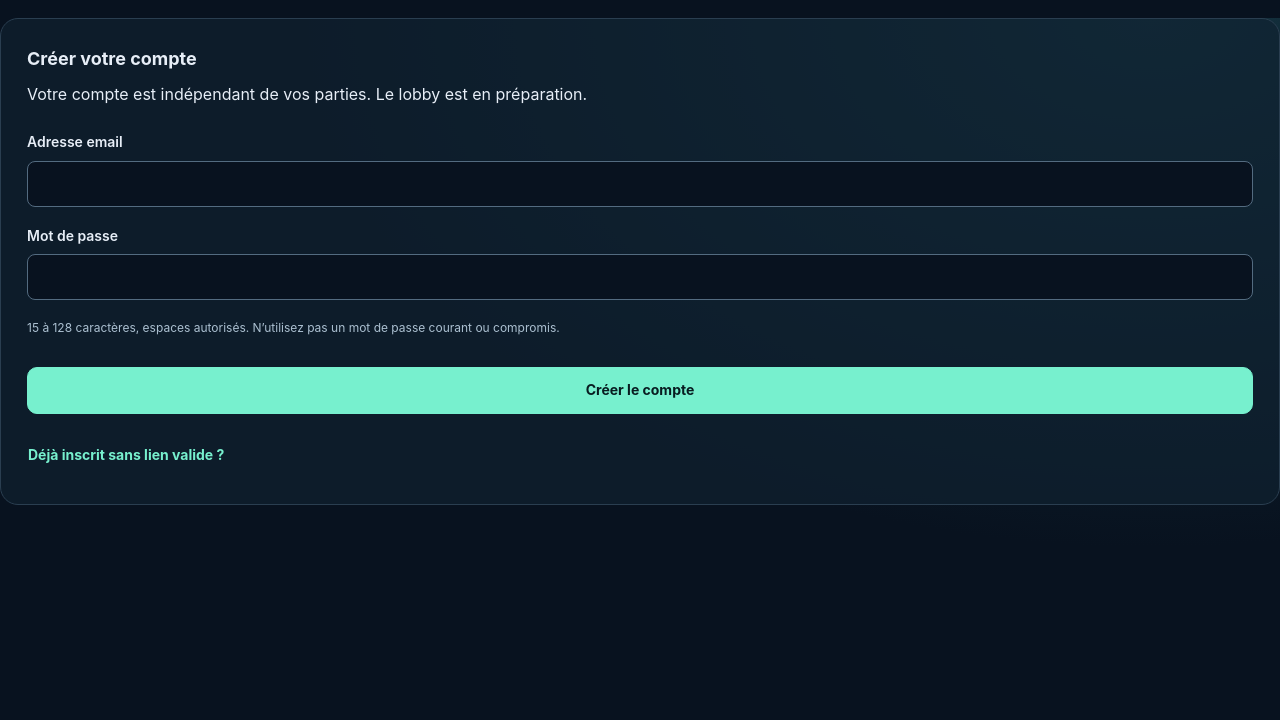
Test: rate errors are shown without reflecting a backend secret
Type "player@example.org" into the field labelled "Adresse email" at (640, 184), box [27,161,1253,207]
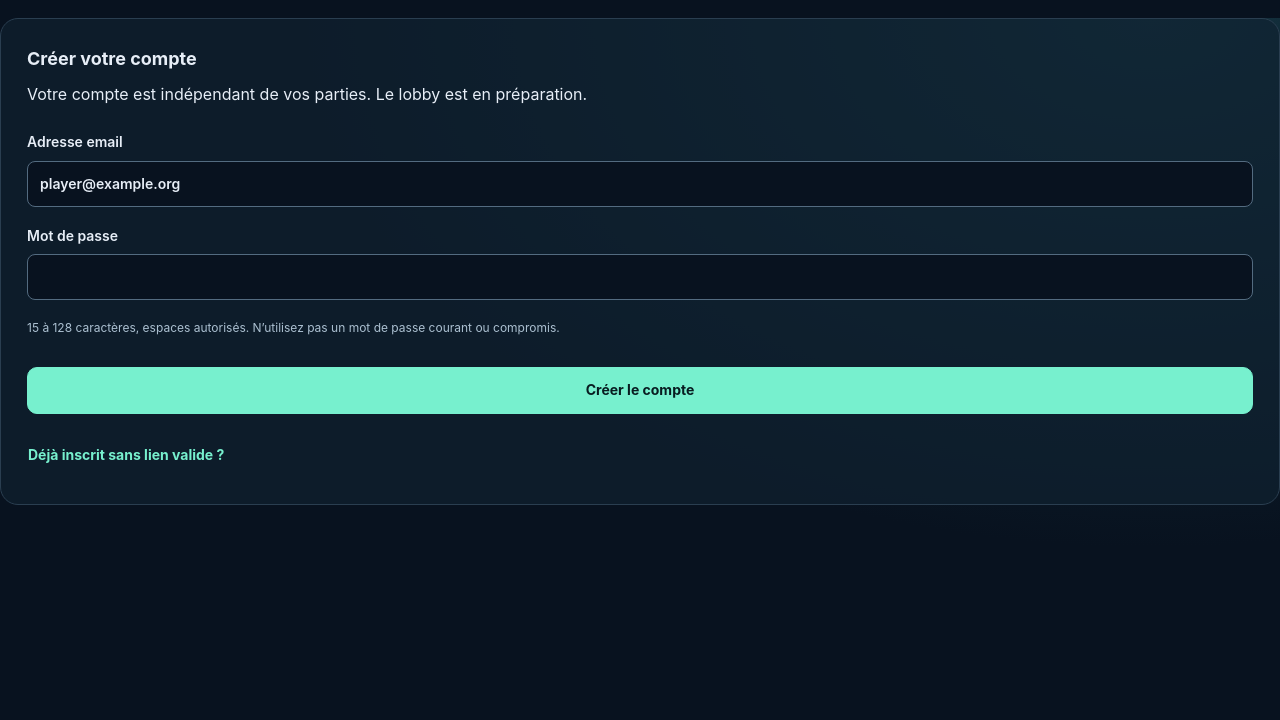
Type "C02 strong test phrase 2026 !" into the password field labelled "Mot de passe" at (640, 277), box [27,254,1253,300]
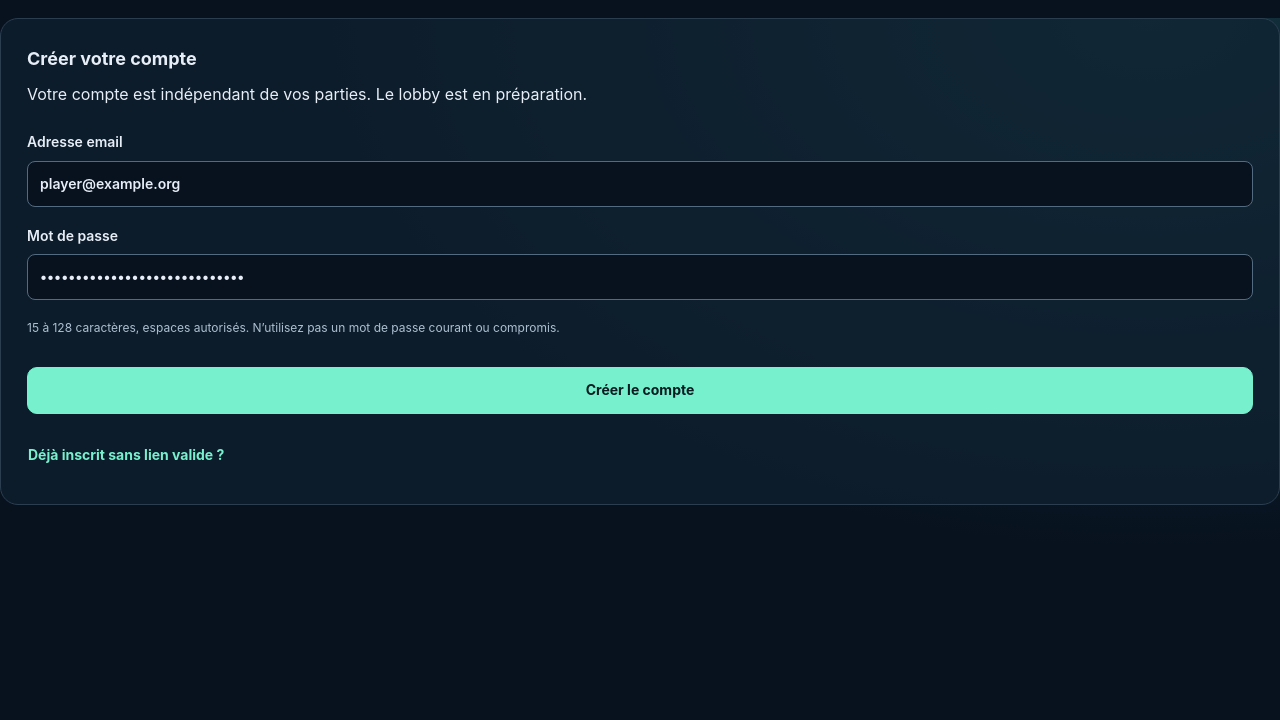
Click the button "Créer le compte" at (640, 391), box [27,367,1253,414]
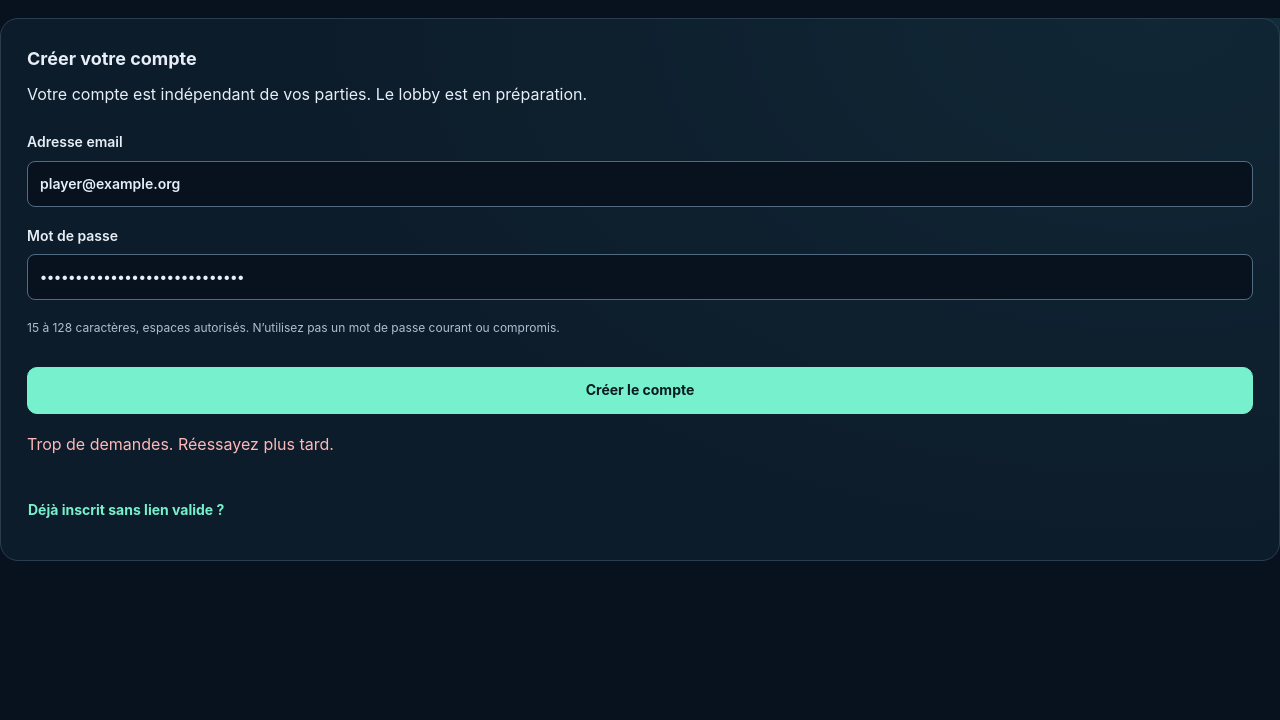
Check: the message shows "Trop de demandes", box [27,434,334,454]
